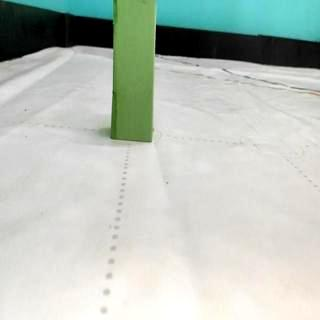greenbox: (114, 0, 156, 142)
